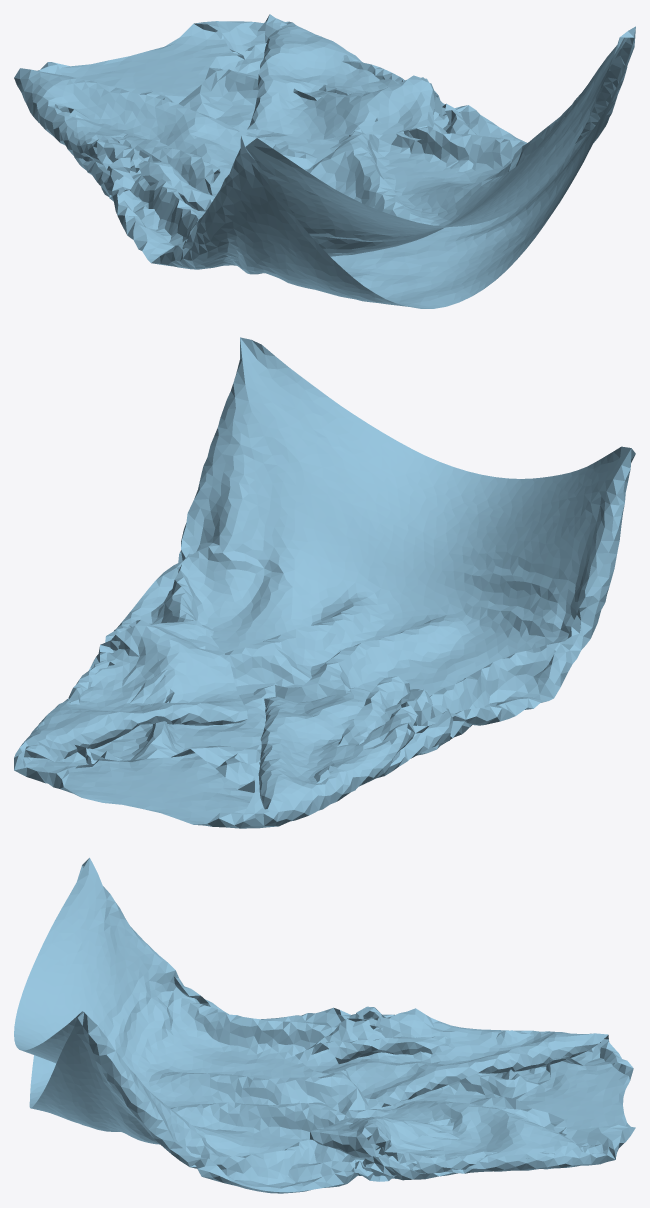
Rendered from frame_04.glb.
3 renders of one model, top to bottom at view 1: azimuth 30°, elevation 25°; view 2: azimuth 150°, elevation 25°; view 3: azimuth 270°, elevation 25°, orthographic. The views are drawn at different scales.
Parts seen in each view (by area): view 1: frame_04.obj; view 2: frame_04.obj; view 3: frame_04.obj.
Part boxes in pixels (bbox=[...]): frame_04.obj: bbox=[14, 14, 635, 308]; frame_04.obj: bbox=[14, 337, 635, 828]; frame_04.obj: bbox=[14, 857, 635, 1193].
Size of the model in its own units: 1.13 by 0.5531 by 1.69.
